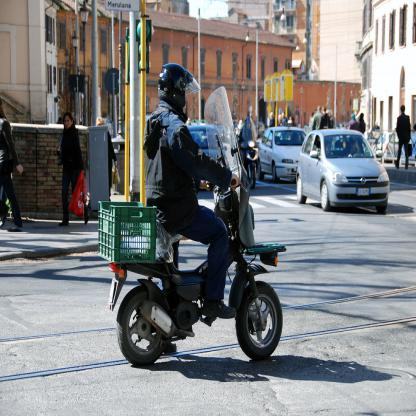car: (298, 127, 396, 216), (254, 125, 311, 184)
motorcycle: (88, 140, 291, 388)
